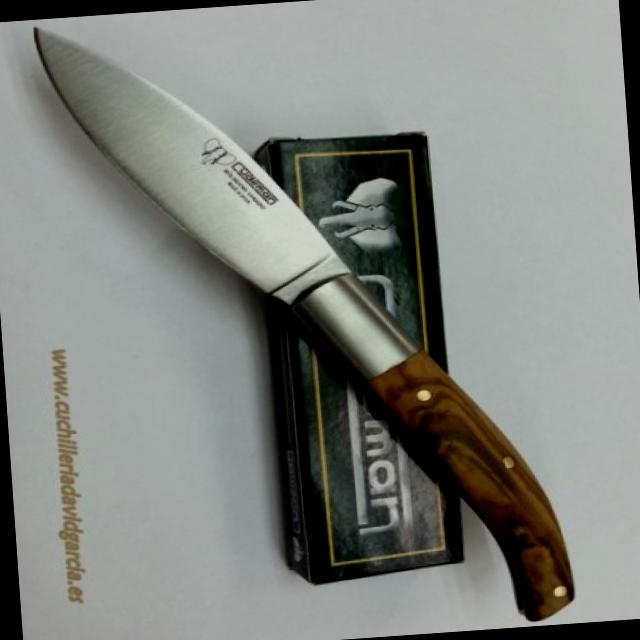knife: (28, 1, 374, 345)
